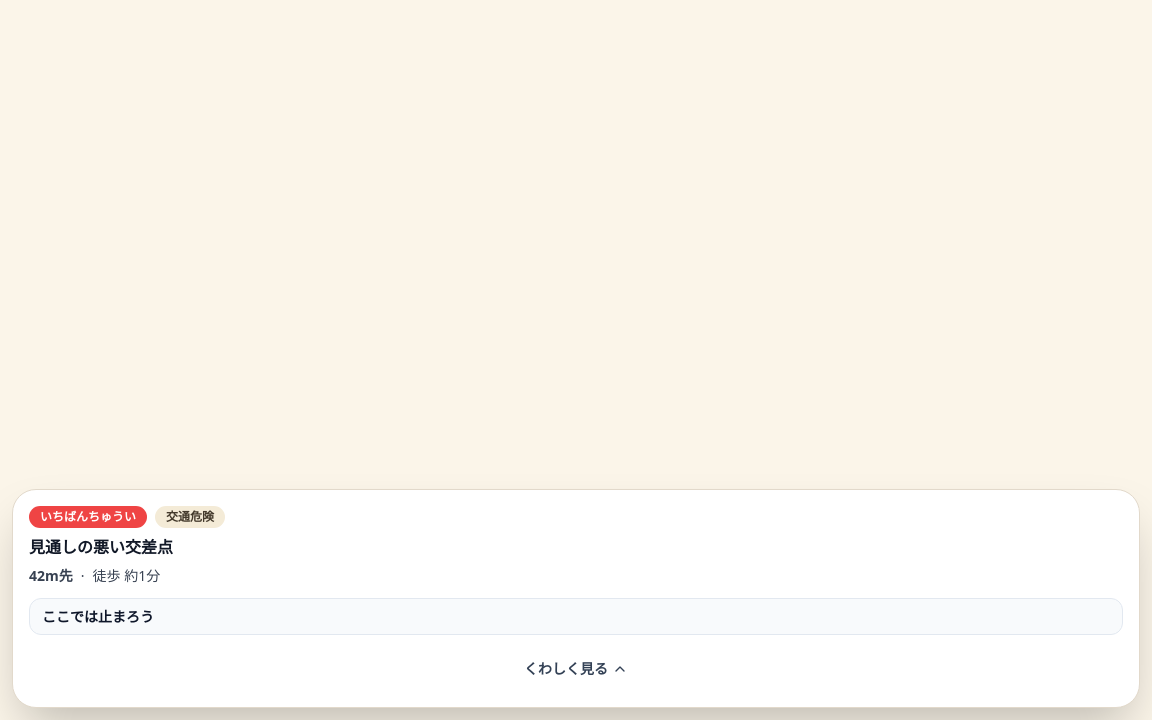
Scenario: ARPrimaryHazardCard bottom sheet › 近づいていないときの子ども向けの注意は、たたむとひとことだけ。ひらくと行動まで出る
Check: the text "ここでは止まろう" is shown, box x1=29 y1=598 x2=1123 y2=635
Check: the text "車が止まったのを見てからわたろう" is not shown
Click the button "くわしく見る" at [576, 669], box x1=29 y1=647 x2=1123 y2=691
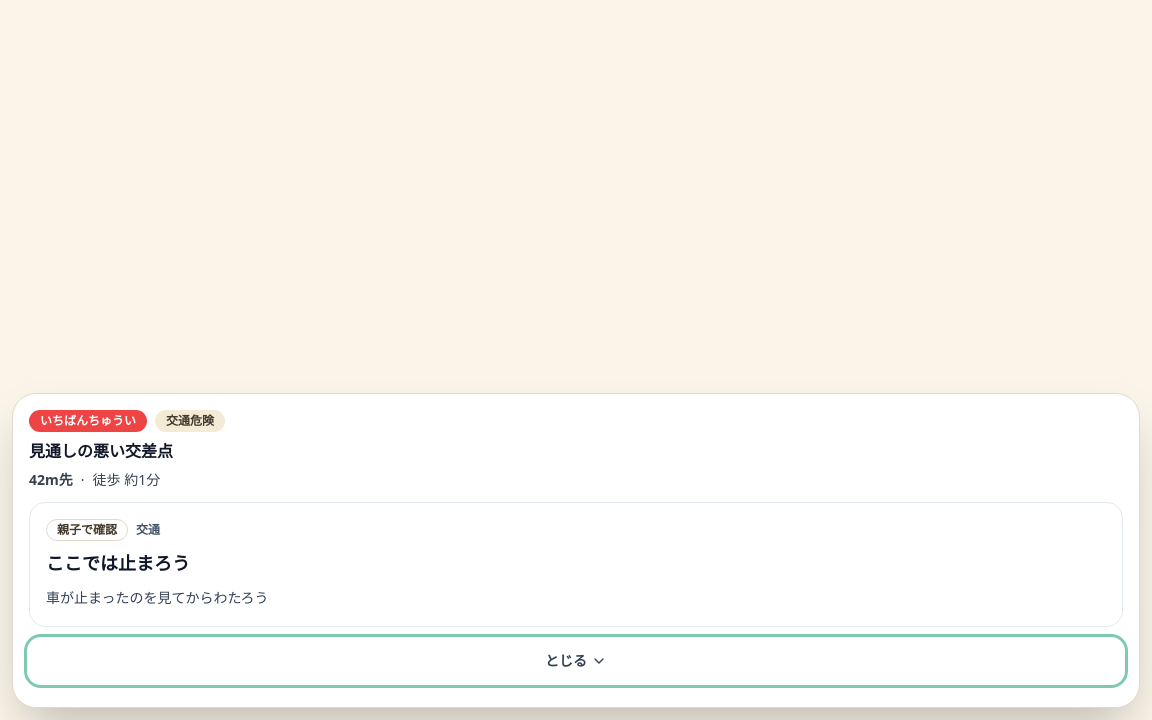
Check: the text "車が止まったのを見てからわたろう" is shown, box x1=46 y1=588 x2=269 y2=607
